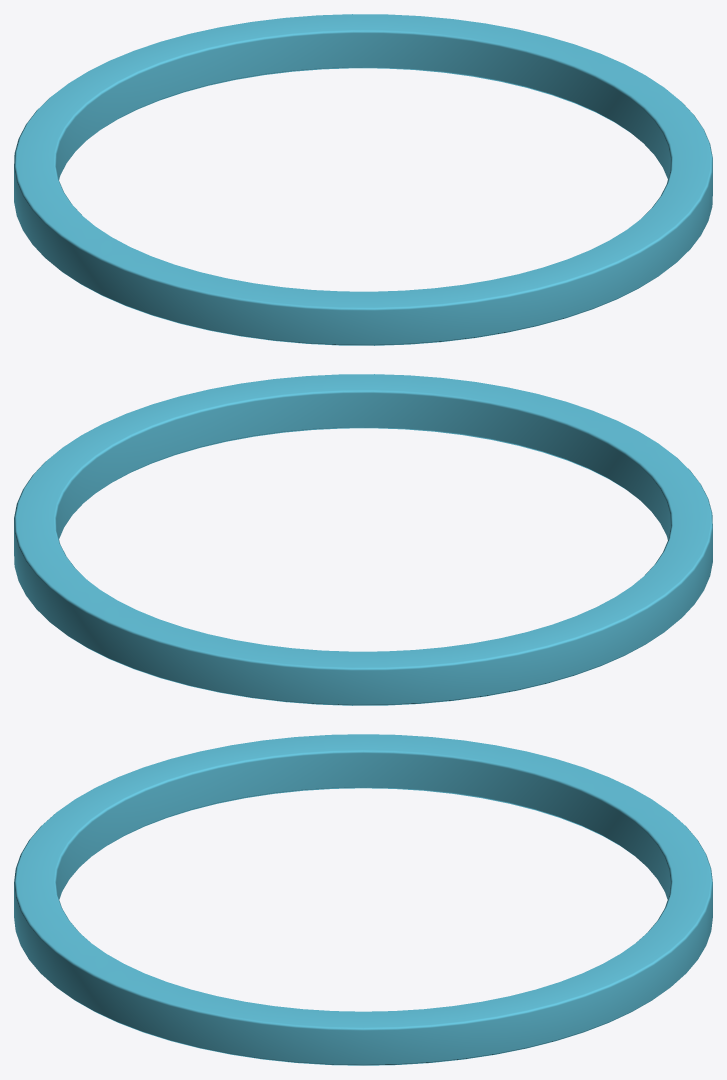
3 renders of one model, top to bottom at view 1: azimuth 30°, elevation 25°; view 2: azimuth 150°, elevation 25°; view 3: azimuth 270°, elevation 25°, orthographic.
Parts seen in each view (by area): view 1: seal_body; view 2: seal_body; view 3: seal_body.
Boxes of the visible parts, <box> form: seal_body: <box>14,14,712,345</box>; seal_body: <box>14,374,712,705</box>; seal_body: <box>14,734,712,1065</box>.
Size of the model in its own units: 0.1048 by 0.00635 by 0.1048.
